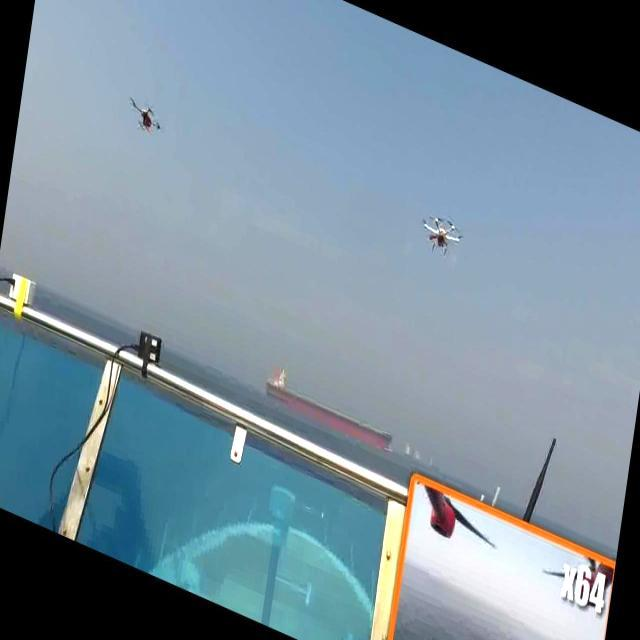drone: (417, 207, 465, 268), (124, 90, 164, 146)
